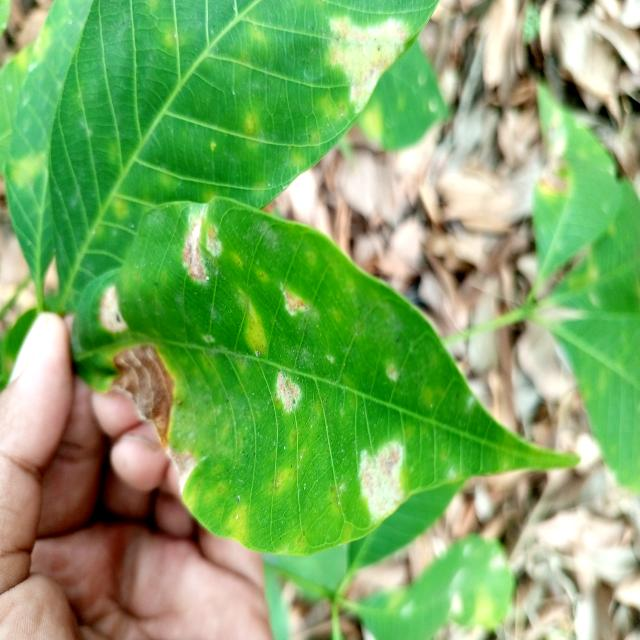Leaf-Blight: (104, 343, 176, 446), (166, 448, 198, 494)
